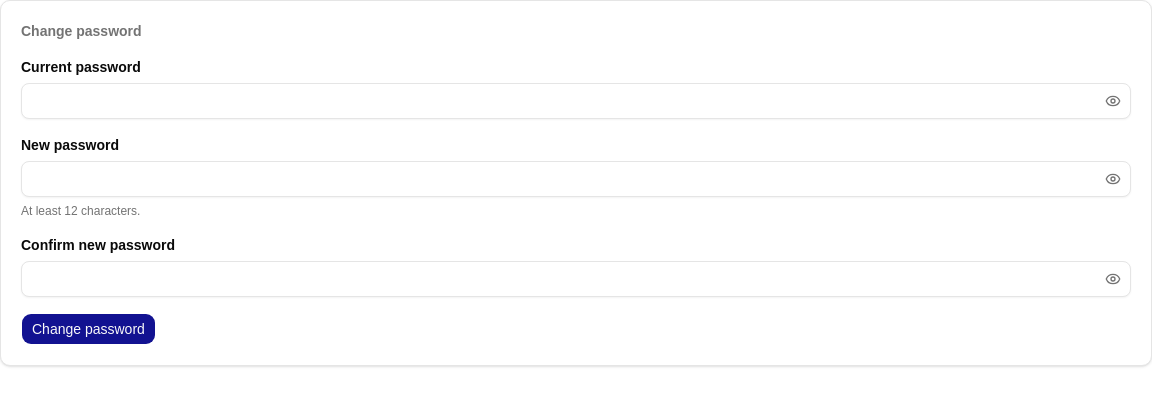
it: ChangePasswordForm › success → clears every field, announces it, and reports the new date
Type "current-password-1" into the password field labelled "Current password" at (576, 101), box [21,83,1131,119]
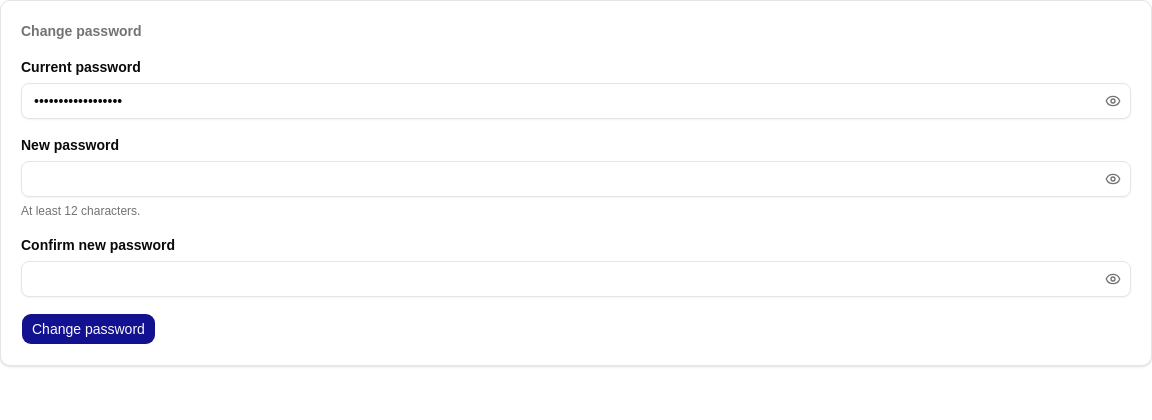
Type "brand-new-password" into the password field labelled "New password" at (576, 179), box [21,161,1131,197]
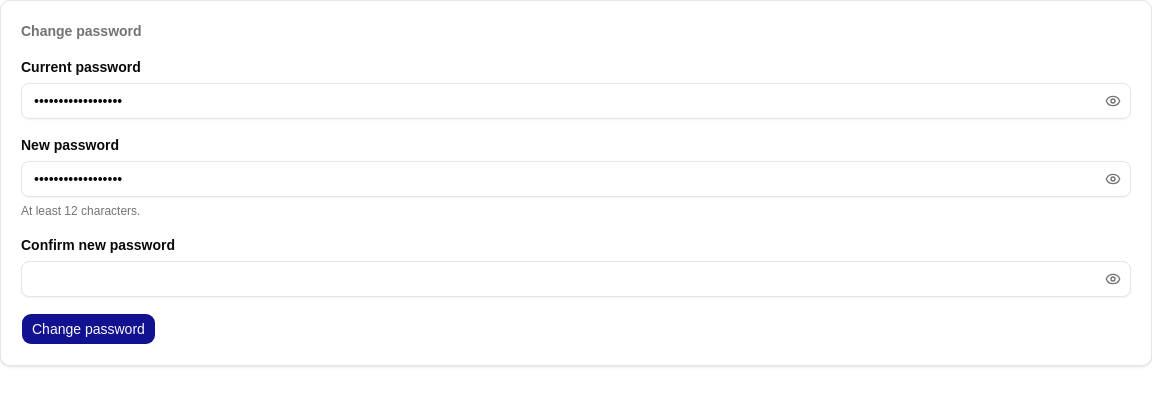
Type "brand-new-password" into the password field labelled "Confirm new password" at (576, 279), box [21,261,1131,297]
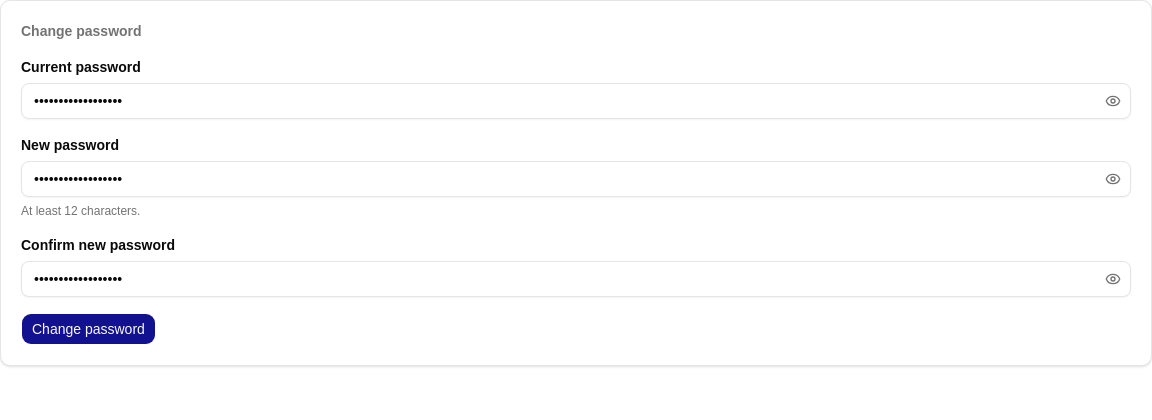
Click the button "Change password" at (88, 329), box [21,313,156,345]
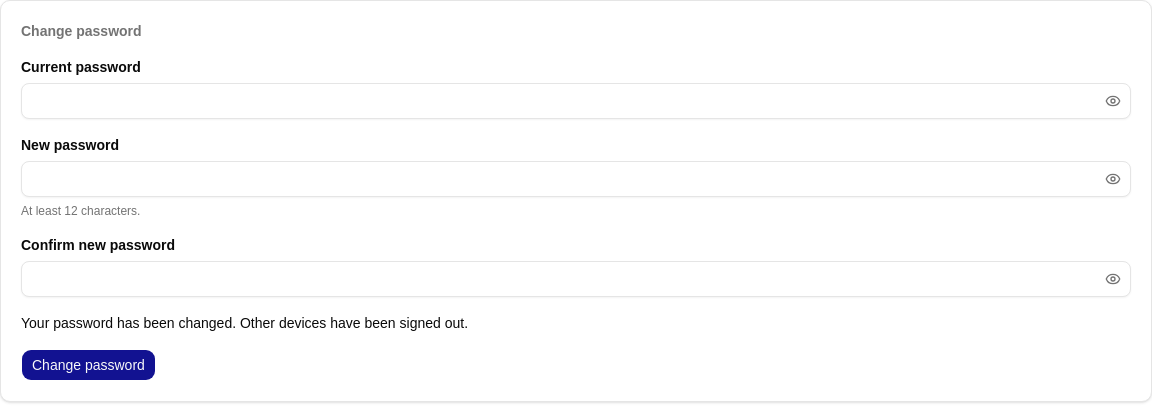
Expected: the message reads "Your password has been changed. Other devices have been signed out.", [21,315,468,331]
